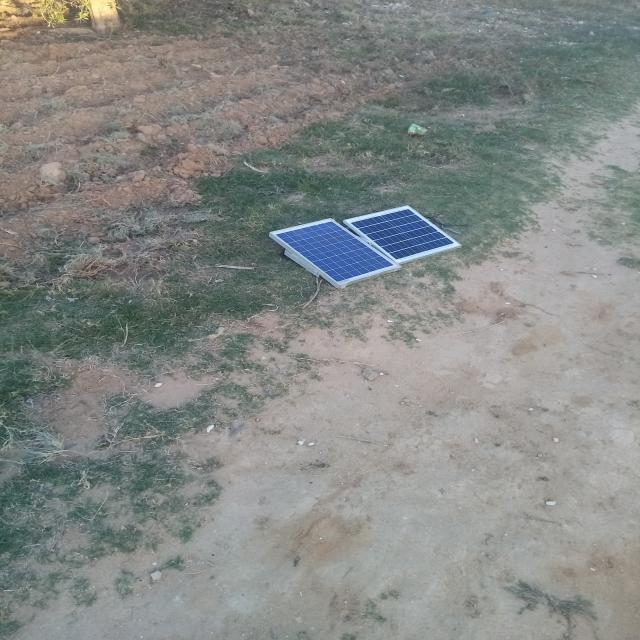Normal Solar Panel: (271, 218, 399, 284), (345, 206, 461, 263)
